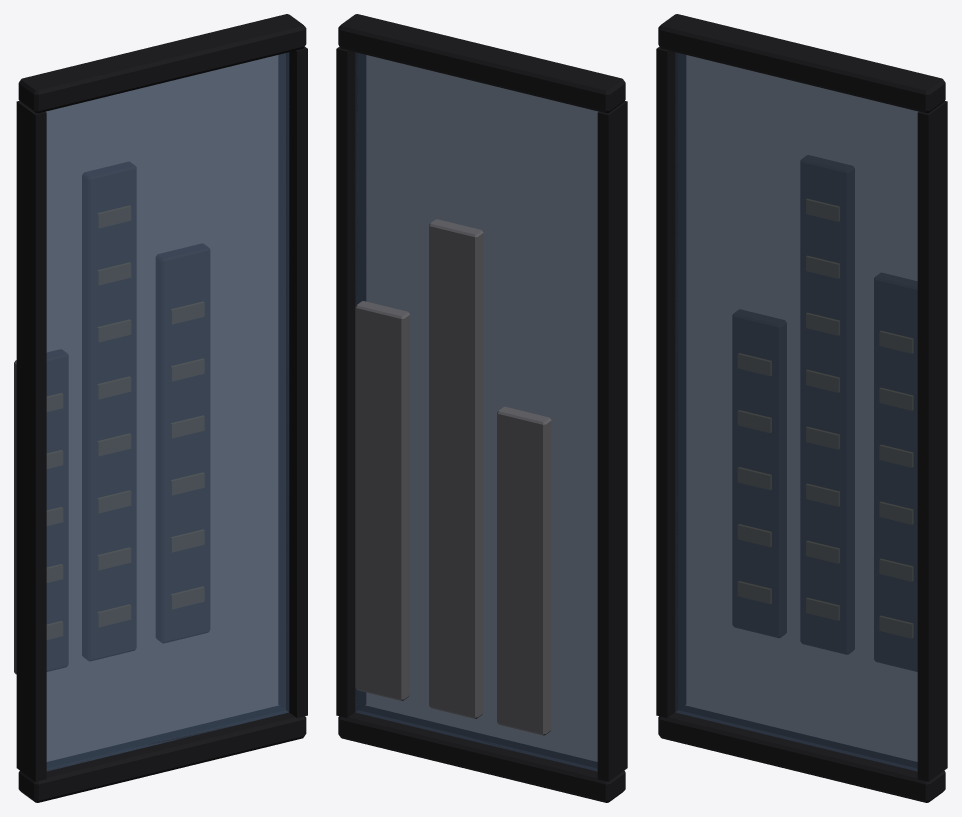
Rendered from glass_wall.obj.
The picture shows the model from 3 angles, left to right: view 1: azimuth 30°, elevation 25°; view 2: azimuth 150°, elevation 25°; view 3: azimuth 330°, elevation 25°; orthographic projection.
Visible parts, largest first — view 1: glass_wall; view 2: glass_wall; view 3: glass_wall.
Boxes of the visible parts, left/top/right/bottom form: glass_wall: left=14, top=14, right=307, bottom=802; glass_wall: left=336, top=14, right=627, bottom=802; glass_wall: left=656, top=14, right=947, bottom=802.
Bounding box in the file's own units: 1 × 2.5 × 0.335.
